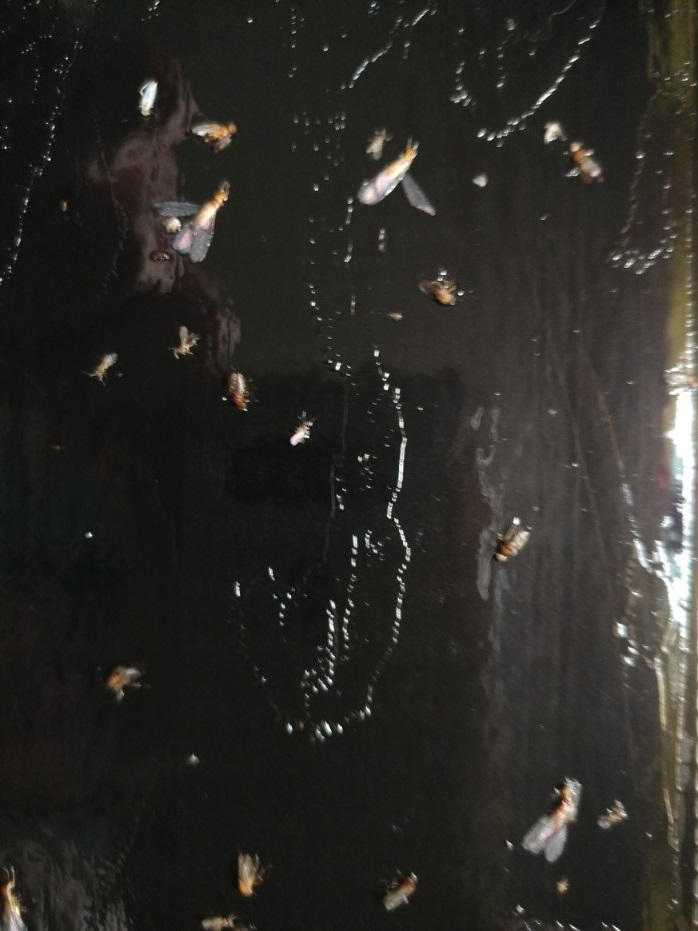flying termite: (155, 175, 246, 274), (517, 773, 594, 872), (357, 129, 437, 221)
